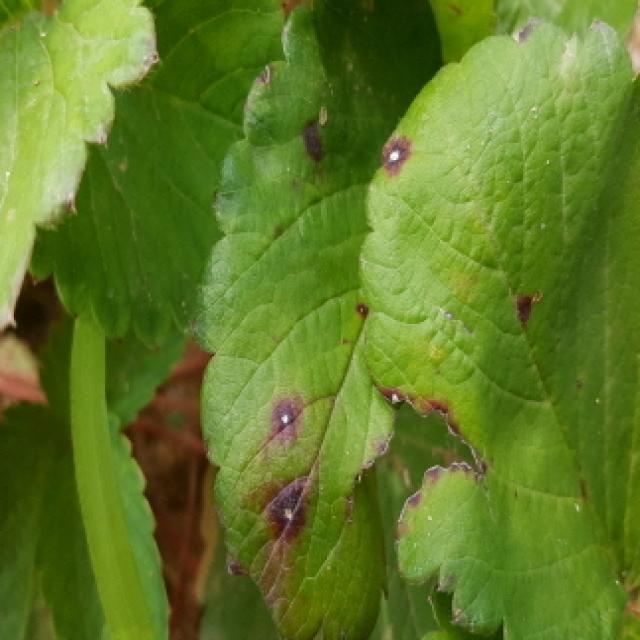Leaf Spot: (354, 14, 640, 640), (192, 0, 447, 640)
